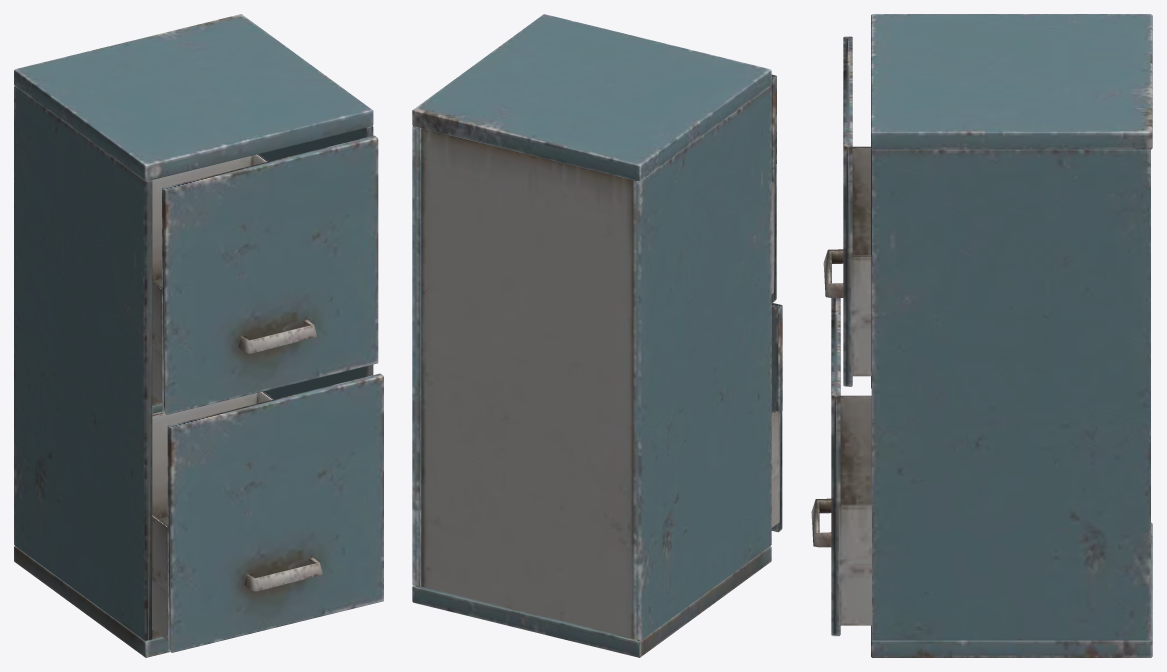
The model's file is file_cabinet_a.glb.
The picture shows the model from 3 angles, left to right: view 1: azimuth 30°, elevation 25°; view 2: azimuth 150°, elevation 25°; view 3: azimuth 270°, elevation 25°; orthographic projection. The views are drawn at different scales.
Visible parts, largest first — view 1: file_cabinet_a; view 2: file_cabinet_a; view 3: file_cabinet_a.
Boxes of the visible parts, bbox=[...] form: file_cabinet_a: bbox=[14, 14, 383, 657]; file_cabinet_a: bbox=[412, 14, 782, 657]; file_cabinet_a: bbox=[811, 14, 1152, 657].
Size of the model in its own units: 0.5 by 1.03 by 0.6054.
Materials: 1 (1 with a texture image).
